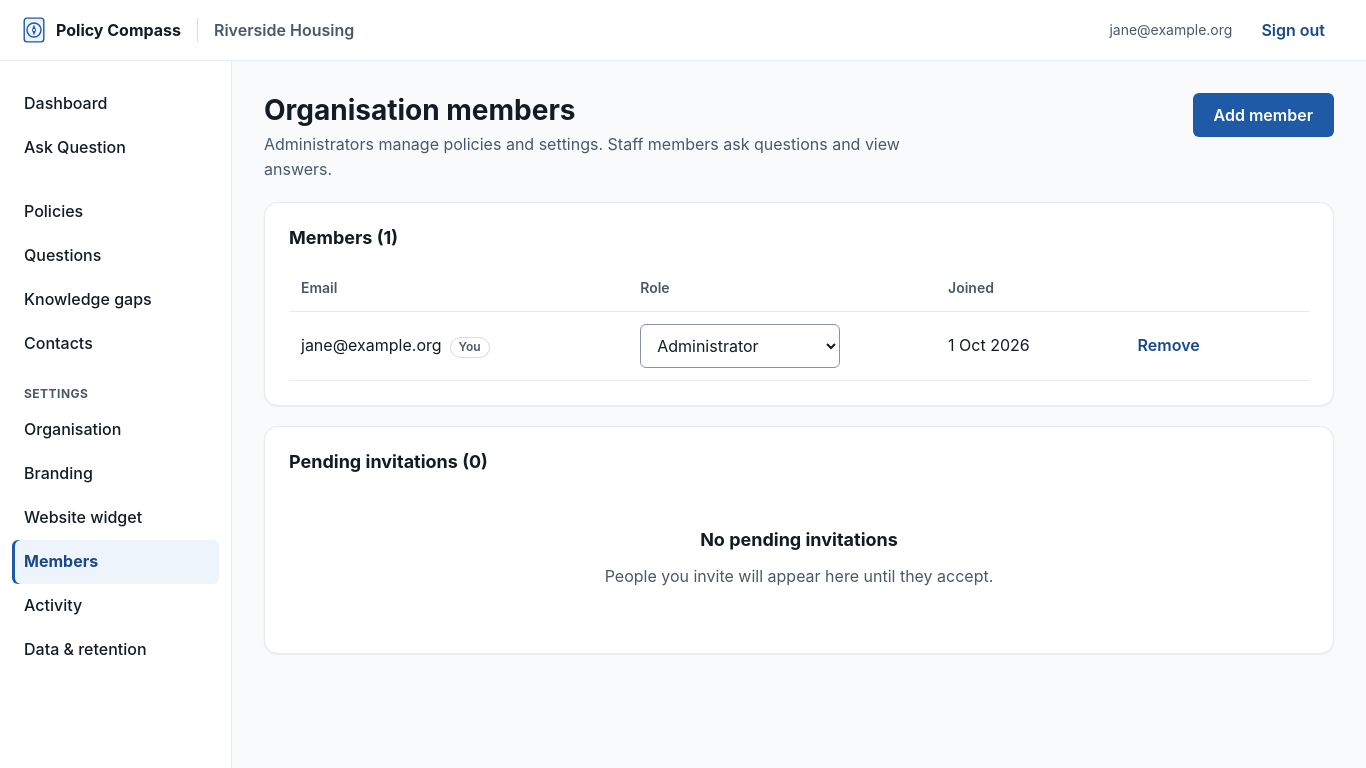
Test: Members page › invites a member through the Add member dialog
Click the button "Add member" at [1263, 115], box [1192,93,1334,137]
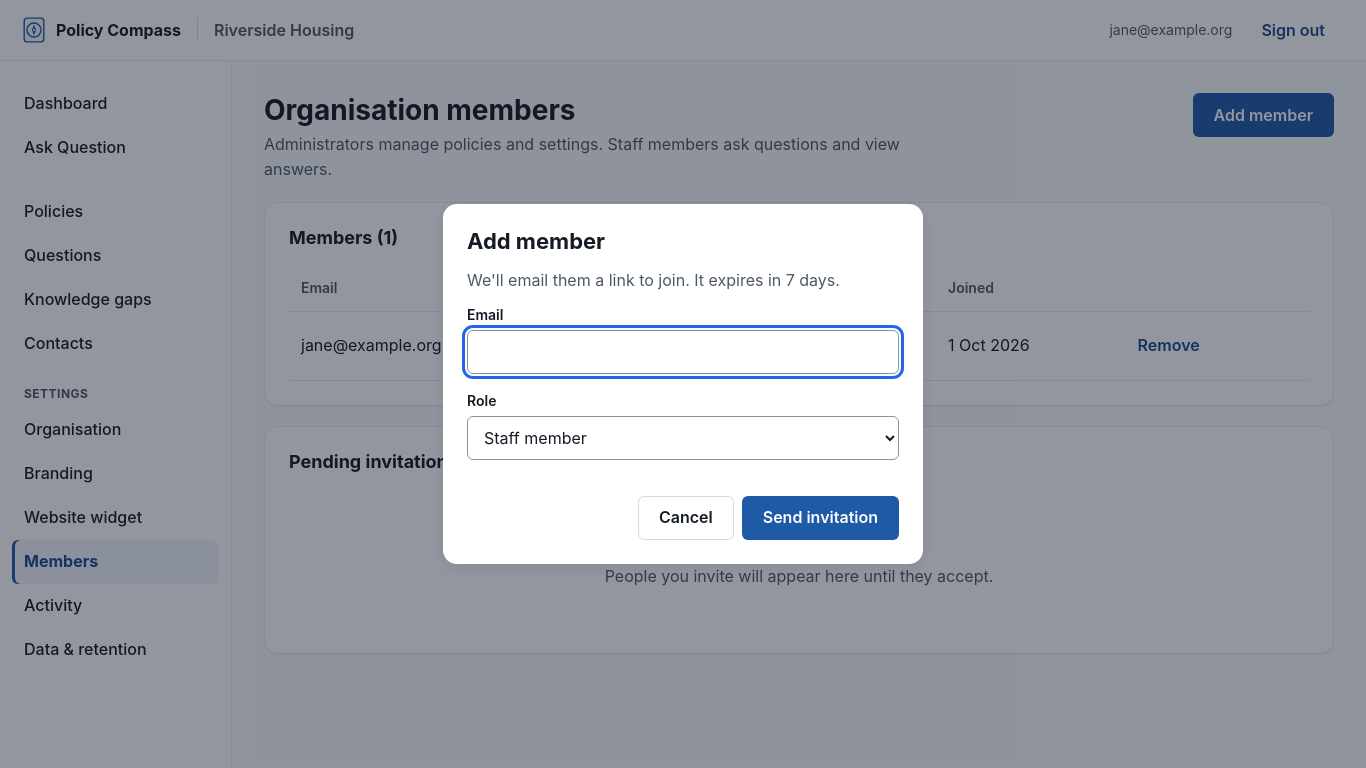
Type "sarah@example.org" into the field labelled "Email" at [683, 352], box [467,330,899,374]
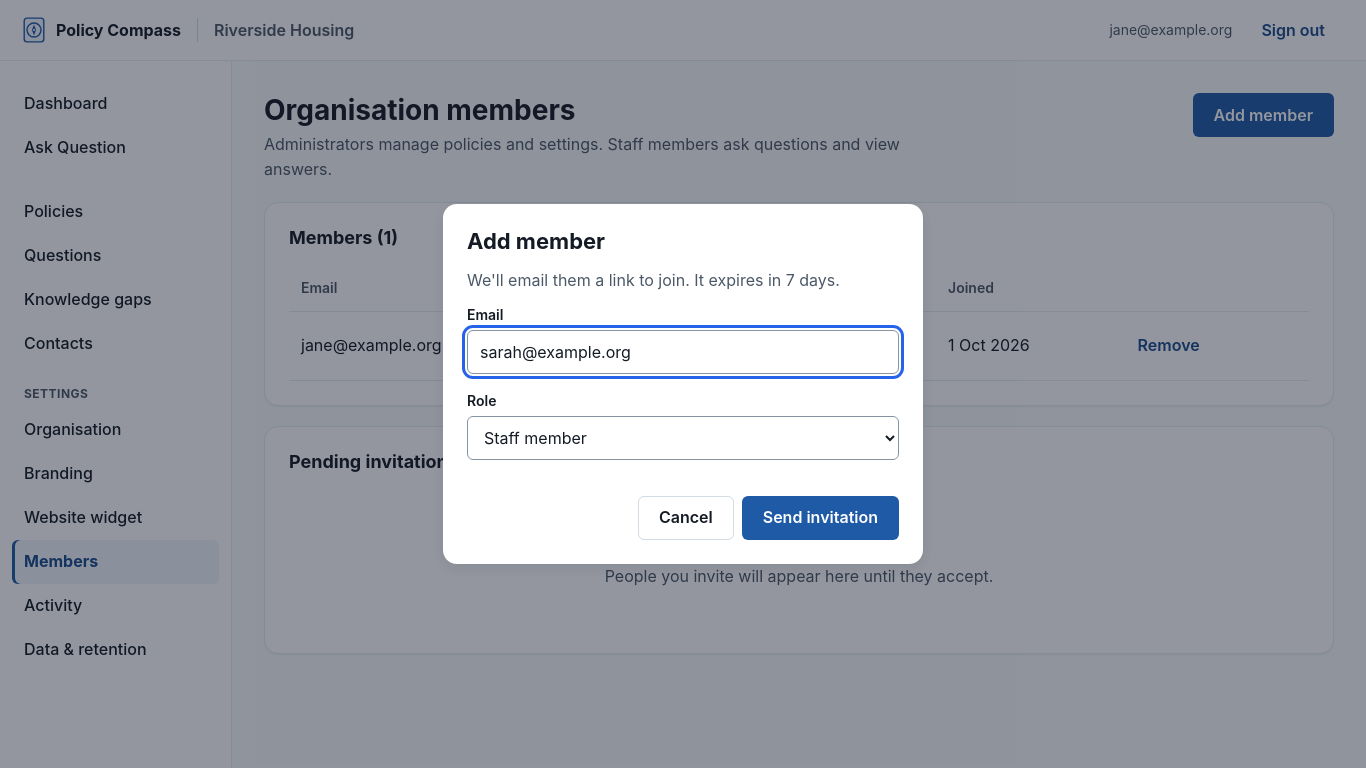
Select "Administrator" in the dropdown labelled "Role" at [683, 438], box [467,416,899,460]
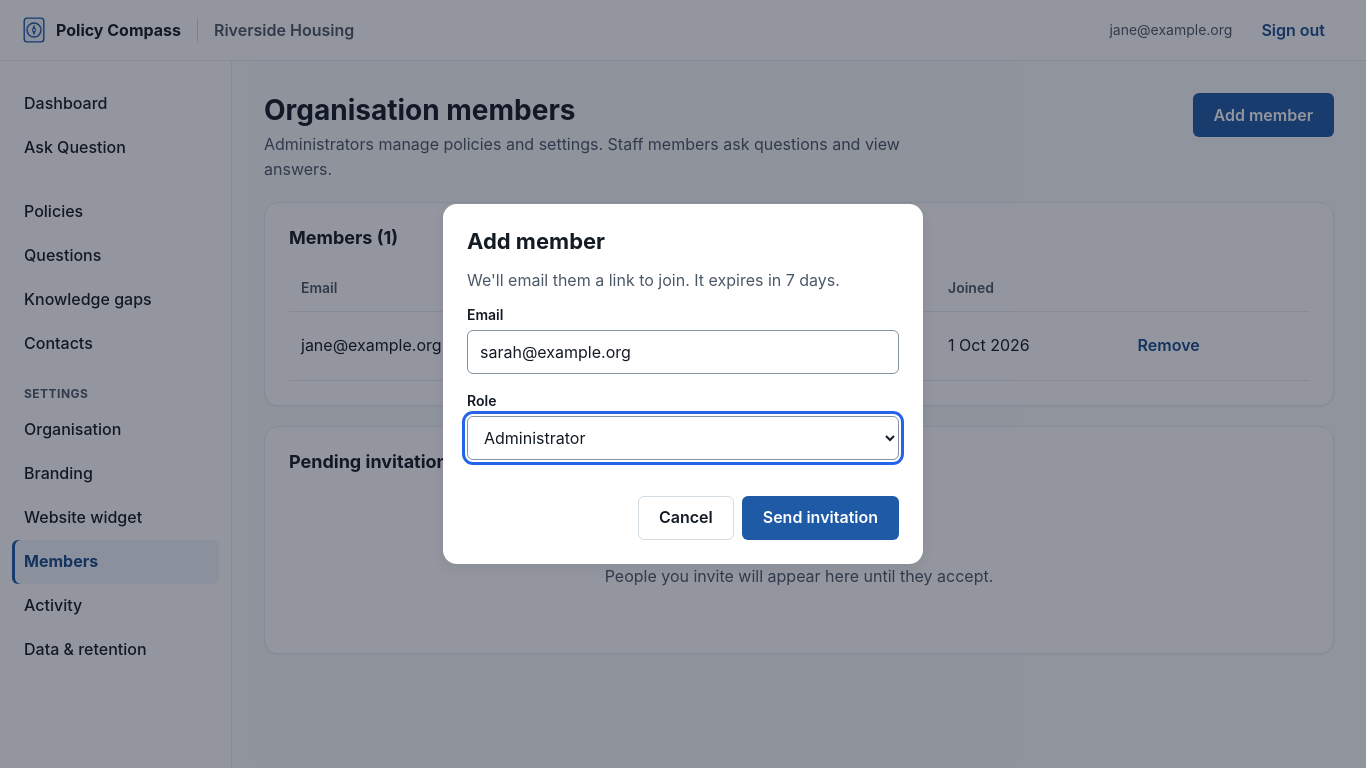
Click the button "Send invitation" at [820, 518], box [742,496,899,540]
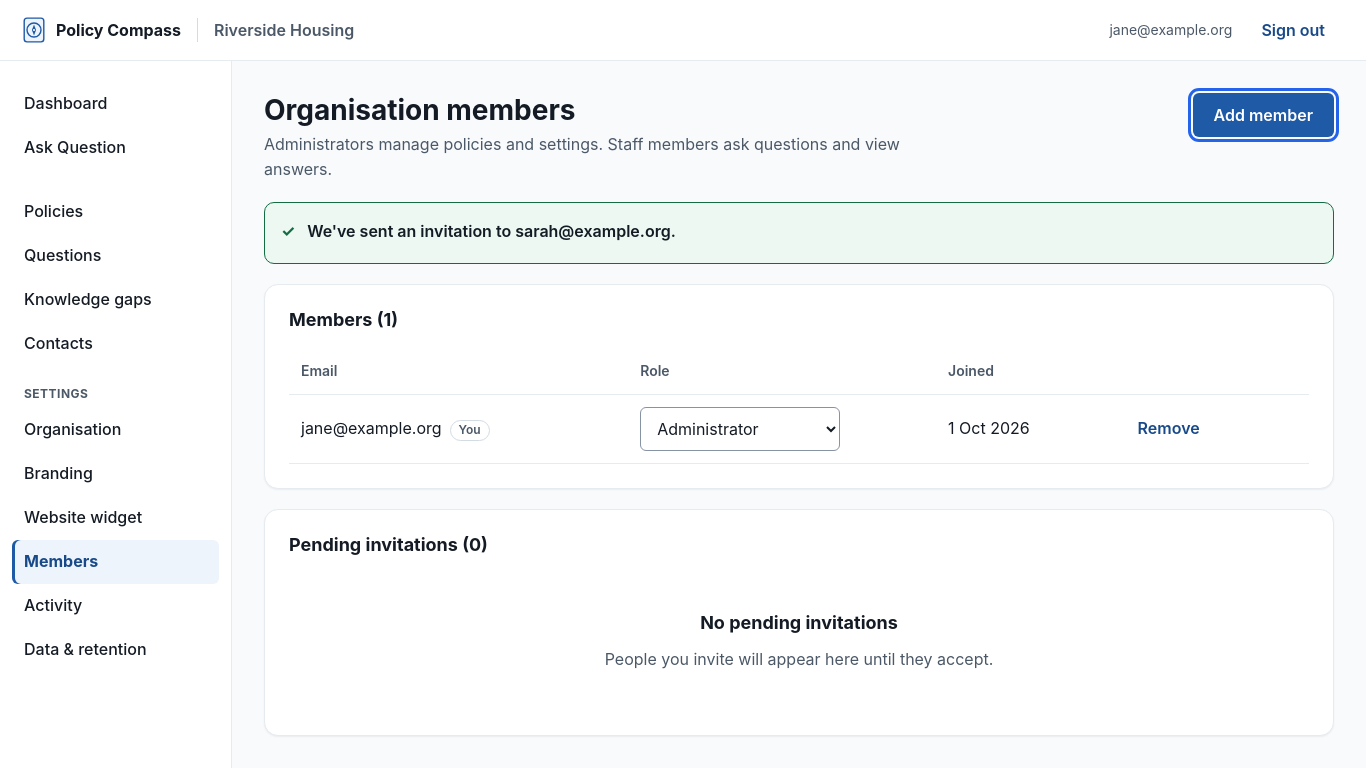
Now the text "We've sent an invitation to sarah@example.org." is shown, box [307,219,676,243]
Now the dialog is gone
